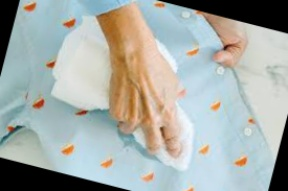oil: (132, 144, 158, 163), (117, 134, 138, 150)
